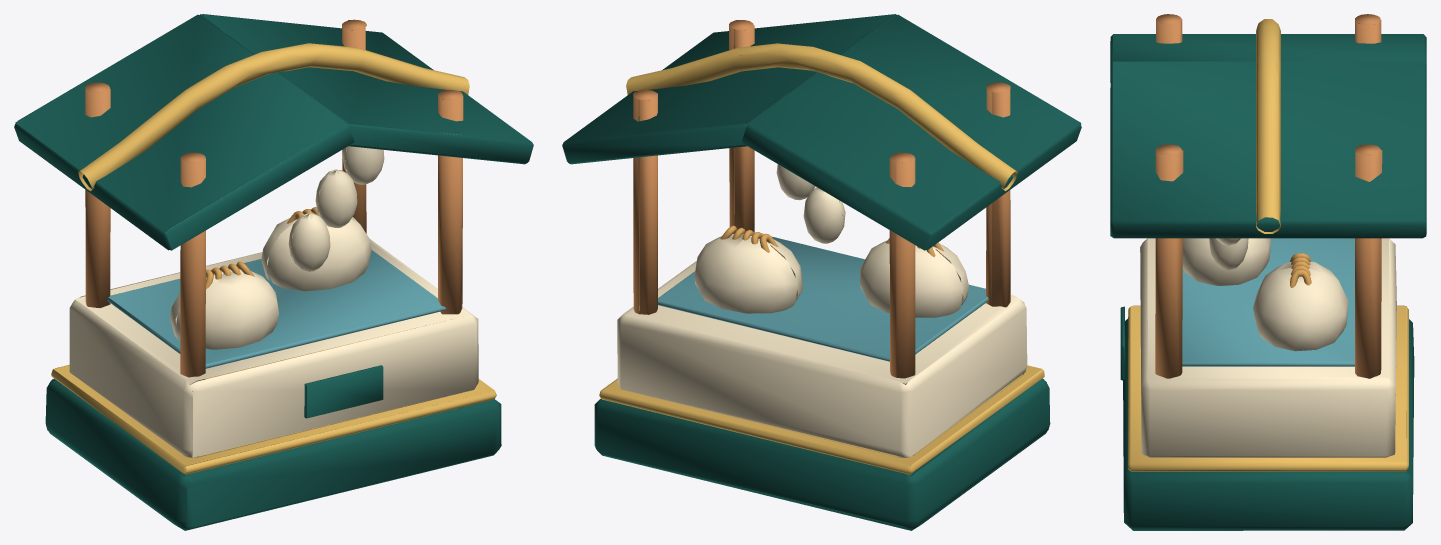
3 renders of one model, left to right at view 1: azimuth 30°, elevation 25°; view 2: azimuth 150°, elevation 25°; view 3: azimuth 270°, elevation 25°, orthographic. The views are drawn at different scales.
Visible parts, largest first — view 1: Jade footing, Bath surround, Brass welt, Timber post, Warm bath, Porcelain vapour, Porcelain vapour.001, Porcelain vapour.002, Pastry fold; view 2: Jade footing, Bath surround, Brass welt, Timber post, Warm bath, Porcelain vapour, Porcelain vapour.001, Pastry fold; view 3: Jade footing, Bath surround, Brass welt, Warm bath, Timber post, Porcelain vapour, Pastry fold.
Part boxes in pixels (x1=…): Jade footing: x1=14, y1=14, x2=533, y2=530; Bath surround: x1=69, y1=209, x2=478, y2=457; Brass welt: x1=51, y1=43, x2=496, y2=474; Timber post: x1=85, y1=19, x2=463, y2=391; Warm bath: x1=107, y1=250, x2=446, y2=368; Porcelain vapour: x1=288, y1=213, x2=330, y2=271; Porcelain vapour.001: x1=315, y1=169, x2=357, y2=227; Porcelain vapour.002: x1=342, y1=146, x2=384, y2=184; Pastry fold: x1=206, y1=207, x2=319, y2=289; Jade footing: x1=562, y1=14, x2=1081, y2=530; Bath surround: x1=617, y1=232, x2=1027, y2=457; Brass welt: x1=599, y1=43, x2=1044, y2=474; Timber post: x1=633, y1=20, x2=1010, y2=384; Warm bath: x1=658, y1=236, x2=988, y2=361; Porcelain vapour: x1=803, y1=187, x2=845, y2=243; Porcelain vapour.001: x1=776, y1=164, x2=815, y2=200; Pastry fold: x1=720, y1=225, x2=944, y2=257; Jade footing: x1=1110, y1=34, x2=1426, y2=530; Bath surround: x1=1140, y1=238, x2=1396, y2=457; Brass welt: x1=1128, y1=19, x2=1408, y2=471; Warm bath: x1=1182, y1=238, x2=1354, y2=366; Timber post: x1=1155, y1=14, x2=1382, y2=378; Porcelain vapour: x1=1209, y1=238, x2=1248, y2=270; Pastry fold: x1=1290, y1=253, x2=1311, y2=287.
Size of the model in its own units: 0.9278 by 0.9101 by 0.6366.
